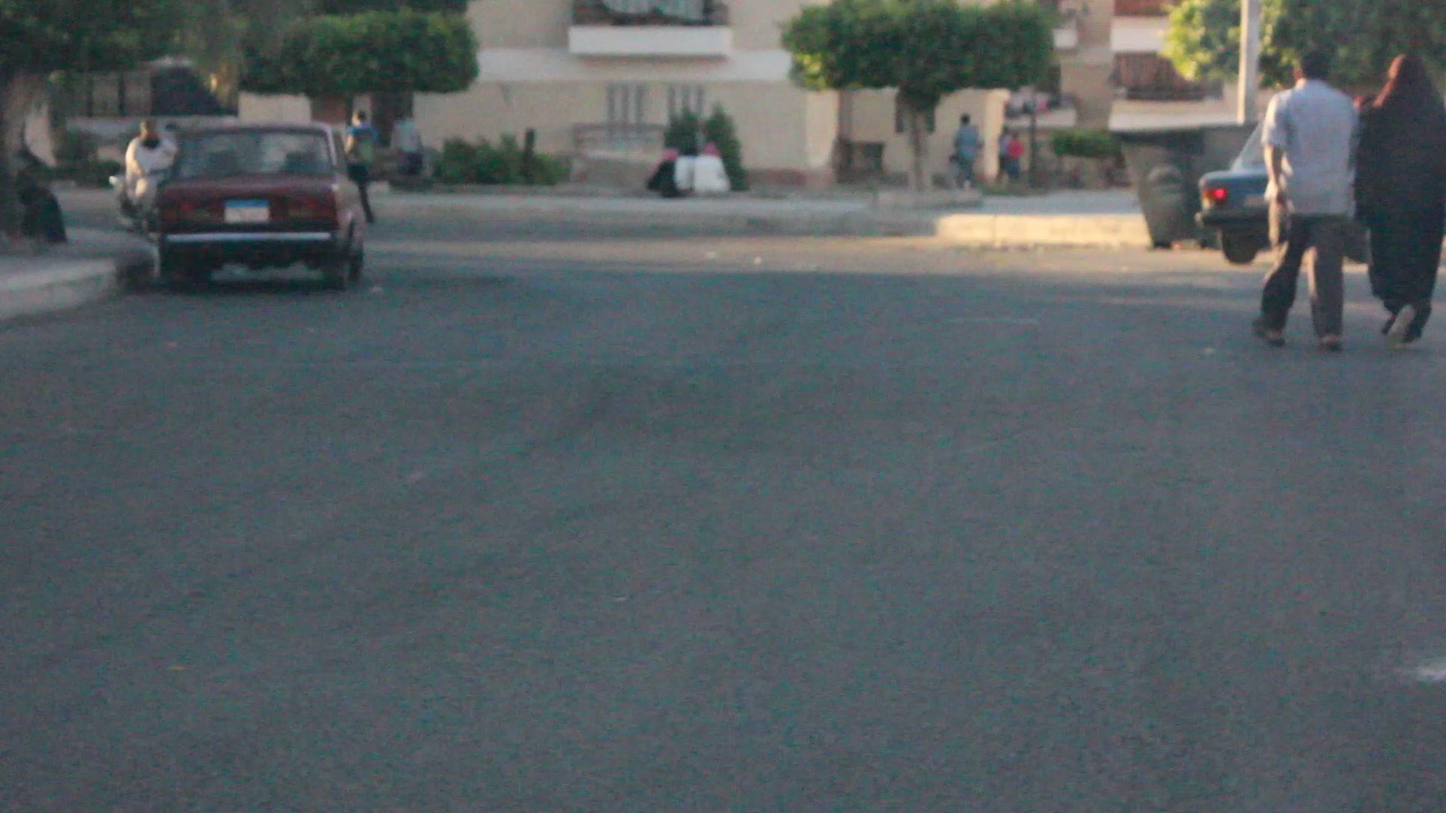Bump: (0, 359, 1446, 478)
